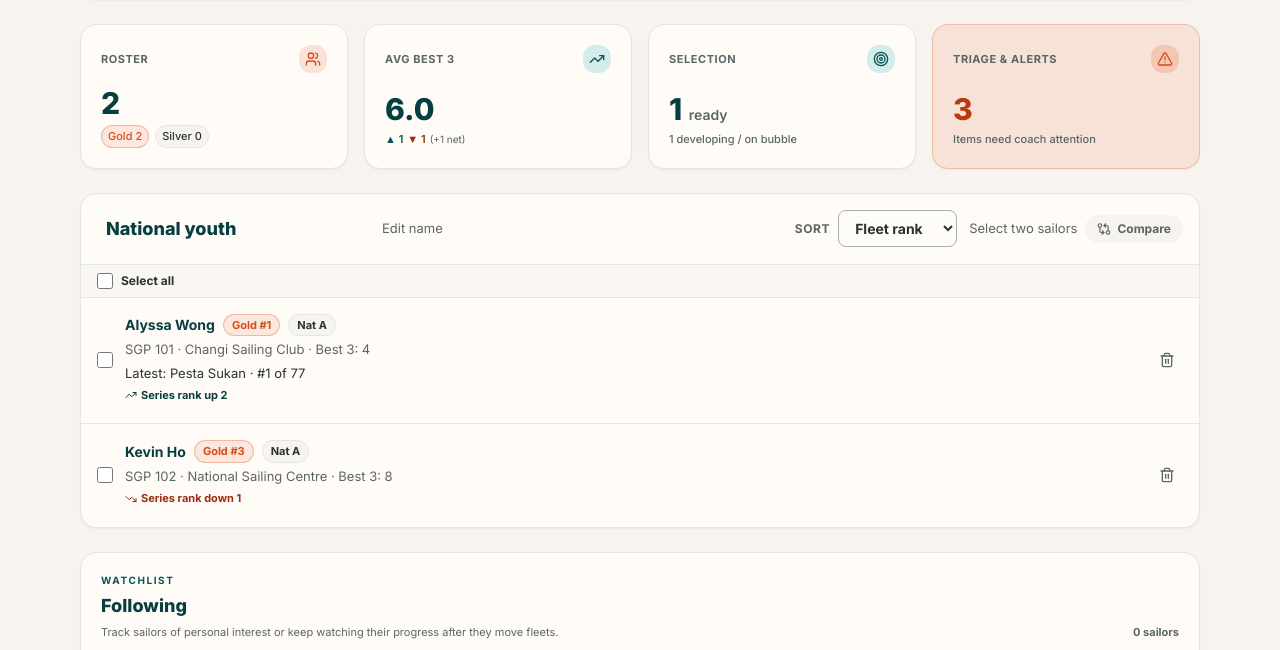
Scenario: coach demo journeys › compares sample athletes on the demo page
(page scrolled)
Click the checkbox named "Select Alyssa Wong for comparison".
click(105, 360)  # box [97,352,113,368]
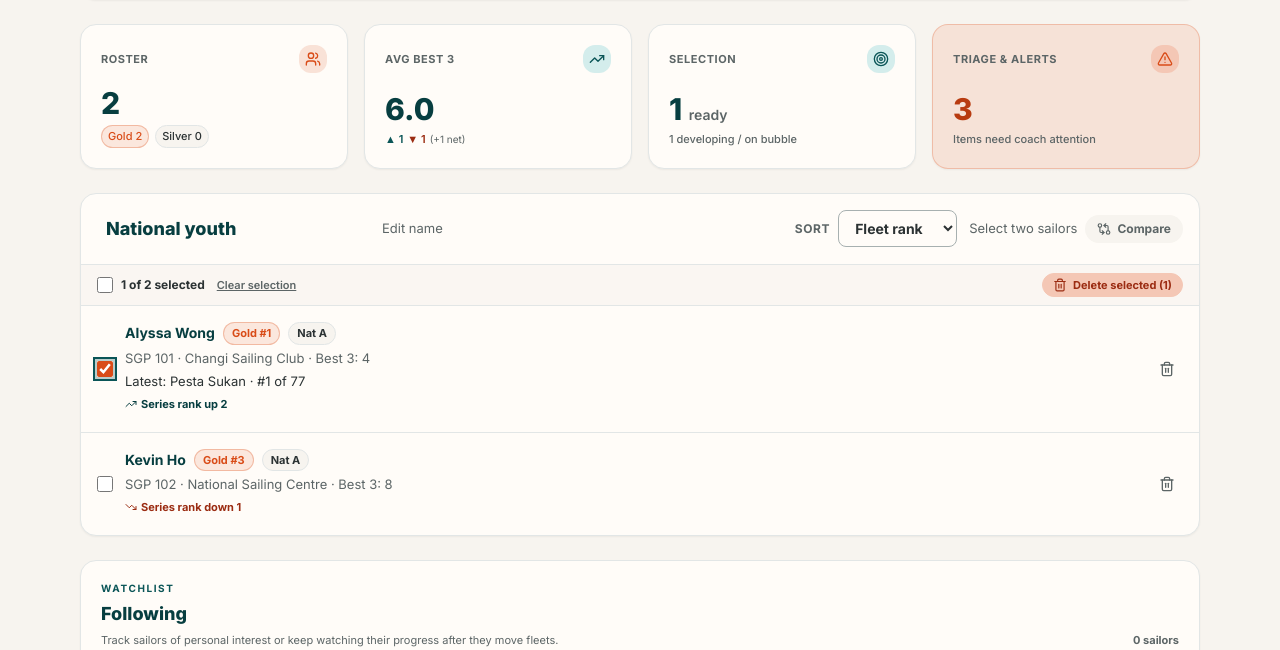
Click the checkbox named "Select Kevin Ho for comparison".
click(105, 484)  # box [97,476,113,492]
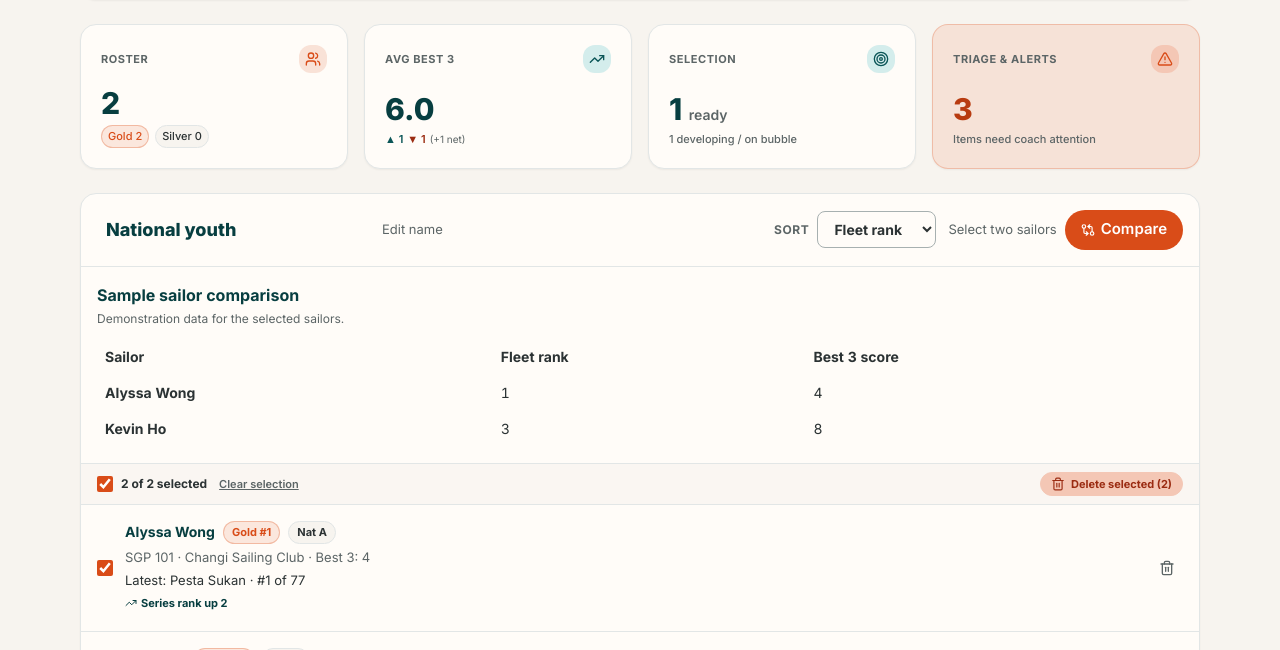
Expected: the element "Sample sailor comparison" shows "Alyssa Wong", [105,384,195,400]
Expected: the element "Sample sailor comparison" shows "Kevin Ho", [105,420,166,436]
